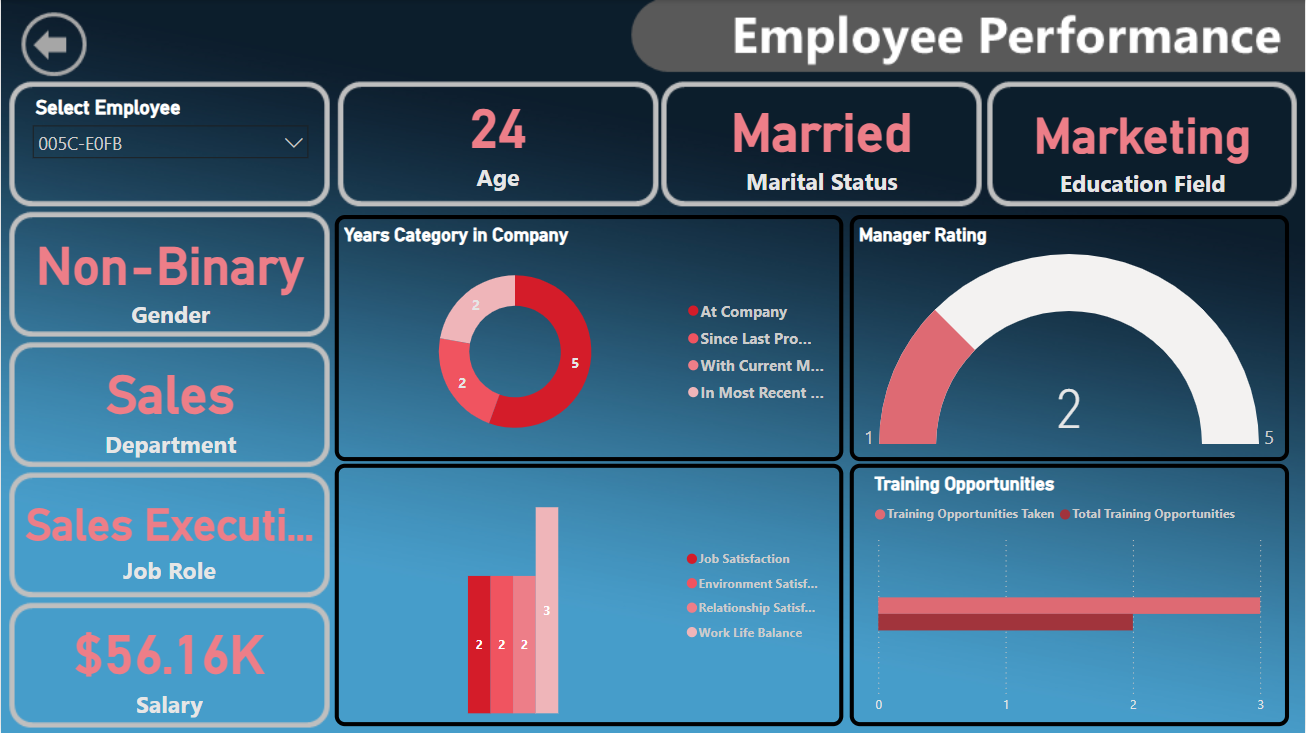

Layout of this report page (visuals, bound fields, positions):
{"tool":"powerbi","page":{"name":"Page 2","canvas":[1280,720],"ordinal":1},"visuals":[{"type":"slicer","fields":{"Values":["Employee.EmployeeID"]},"box":[20.6,89.2,290.9,105.7],"z":0},{"type":"card","fields":{"Values":["Employee.Dep_name"]},"box":[19.2,343.1,293.7,105.7],"z":1000},{"type":"card","fields":{"Values":["Employee.Job_role_measure"]},"box":[17.8,472,293.7,105.7],"z":2000},{"type":"card","fields":{"Values":["Employee.Salary_measure"]},"box":[17.8,598.3,293.7,105.7],"z":3000},{"type":"card","fields":{"Values":["Employee.Age_measure"]},"box":[341.7,70,293.7,129],"z":4000},{"type":"card","fields":{"Values":["Employee.Marital_status_measure"]},"box":[658.7,86.4,293.7,105.7],"z":5000},{"type":"card","fields":{"Values":["Employee.Edu_Field"]},"box":[978.4,89.2,285.4,105.7],"z":6000},{"type":"donutChart","title":"Years Category in Company","fields":{"Y":["Sum(Employee.YearsAtCompany)","Sum(Employee.YearsSinceLastPromotion)","Sum(Employee.YearsWithCurrManager)","Sum(Employee.YearsInMostRecentRole)"]},"box":[328,211.3,499.5,241.5],"z":7000},{"type":"clusteredColumnChart","fields":{"Category":["PerformanceRating.EmployeeID"],"Y":["Count(PerformanceRating.JobSatisfaction)","Count(PerformanceRating.EnvironmentSatisfaction)","Count(PerformanceRating.RelationshipSatisfaction)","Count(PerformanceRating.WorkLifeBalance)"]},"box":[328,455.6,499.5,258],"z":8000},{"type":"gauge","title":"Manager Rating","fields":{"Y":["Count(PerformanceRating.ManagerRating)"],"MinValue":["Min(RatingLevel.RatingID)"],"MaxValue":["Max(RatingLevel.RatingID)1"]},"box":[832.9,211.3,430.9,241.5],"z":9000},{"type":"clusteredBarChart","title":"Training Opportunities ","fields":{"Category":["PerformanceRating.EmployeeID"],"Y":["Count(PerformanceRating.TrainingOpportunitiesTaken)","Count(PerformanceRating.TrainingOpportunitiesWithinYear)"]},"box":[832.9,455.6,430.9,258],"z":10000},{"type":"card","fields":{"Values":["Employee.Gender_measure"]},"box":[19.2,216.8,293.7,105.7],"z":11000},{"type":"actionButton","box":[18.4,9.8,67.5,60.1],"z":12000}]}

Visuals, with their boxes in screenshot pixels (x1, y1, x2, y2), scaled from the page's 1280x720 canvas onto the 1306x733 screenshot:
slicer - Employee.EmployeeID: 21,91,318,198
card - Employee.Dep_name: 20,349,319,457
card - Employee.Job_role_measure: 18,481,318,588
card - Employee.Salary_measure: 18,609,318,717
card - Employee.Age_measure: 349,71,648,203
card - Employee.Marital_status_measure: 672,88,972,196
card - Employee.Edu_Field: 998,91,1289,198
"Years Category in Company" donutChart: 335,215,844,461
clusteredColumnChart - PerformanceRating.EmployeeID x Count(PerformanceRating.JobSatisfaction): 335,464,844,726
"Manager Rating" gauge: 850,215,1289,461
"Training Opportunities " clusteredBarChart: 850,464,1289,726
card - Employee.Gender_measure: 20,221,319,328
actionButton: 19,10,88,71
